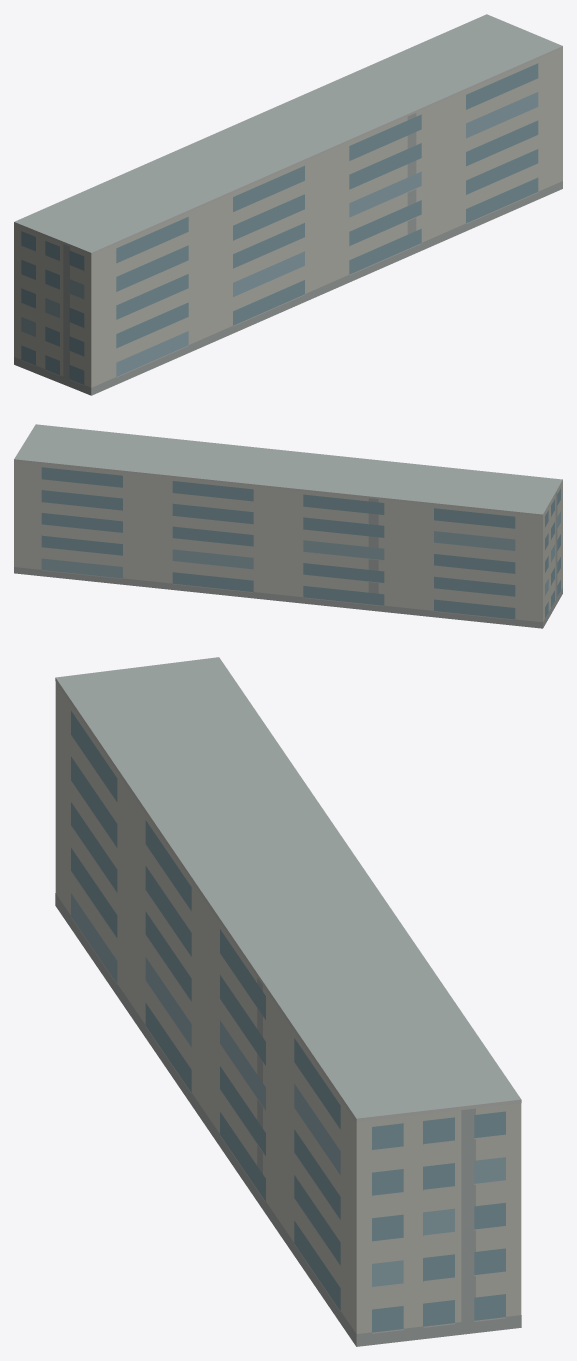
The model's file is survey-upis-32699524.glb.
The picture shows the model from 3 angles, top to bottom: view 1: azimuth 30°, elevation 25°; view 2: azimuth 150°, elevation 25°; view 3: azimuth 270°, elevation 25°; orthographic projection. The views are drawn at different scales.
Visible parts, largest first — view 1: survey-upis-32699524.tmp; view 2: survey-upis-32699524.tmp; view 3: survey-upis-32699524.tmp.
Boxes of the visible parts, x1,y1,x2,y2 form: survey-upis-32699524.tmp: (14,14,562,395); survey-upis-32699524.tmp: (14,424,562,628); survey-upis-32699524.tmp: (55,657,521,1346).
Bounding box in the file's own units: 64.85 × 14.95 × 27.67.
